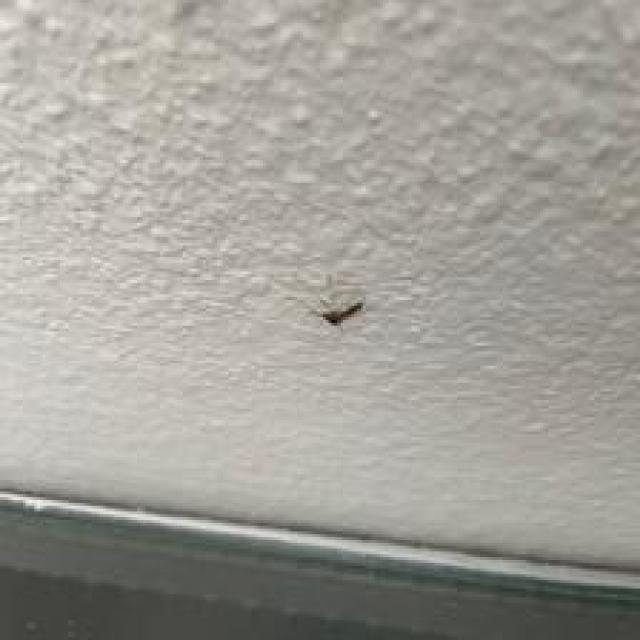Culex: (314, 299, 363, 327)
